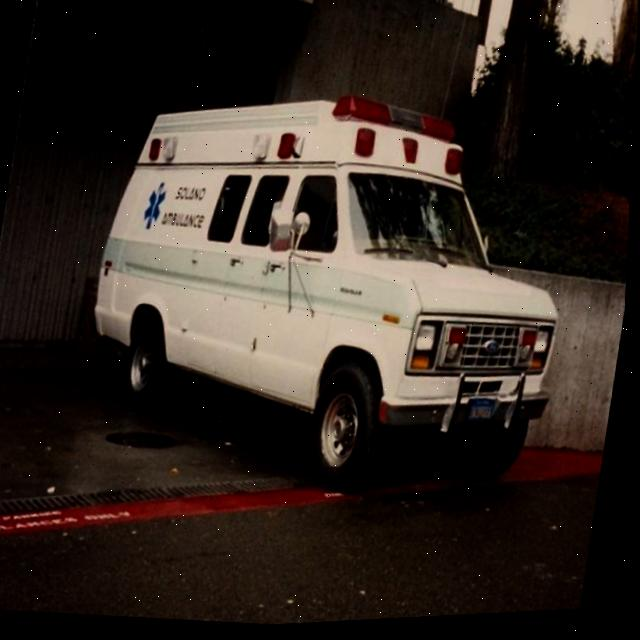emergency: (279, 87, 599, 519), (256, 99, 559, 491)
